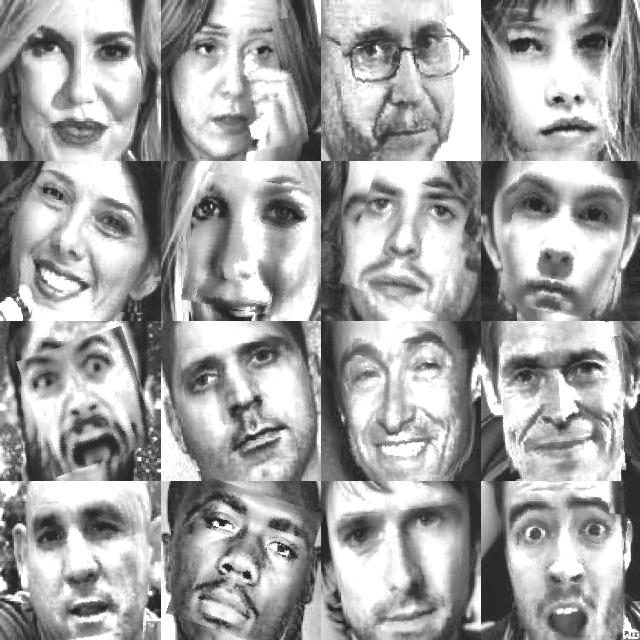fear: (25, 334, 152, 470), (513, 506, 625, 636)
happy: (20, 170, 148, 312), (502, 338, 630, 478), (186, 174, 312, 314), (343, 341, 469, 475)
neutral: (175, 484, 314, 640), (503, 166, 629, 318), (342, 19, 470, 151), (26, 17, 146, 148), (35, 496, 140, 638), (339, 508, 463, 626), (511, 14, 617, 149), (183, 342, 295, 468)
sad: (184, 22, 304, 156), (347, 176, 465, 308)
